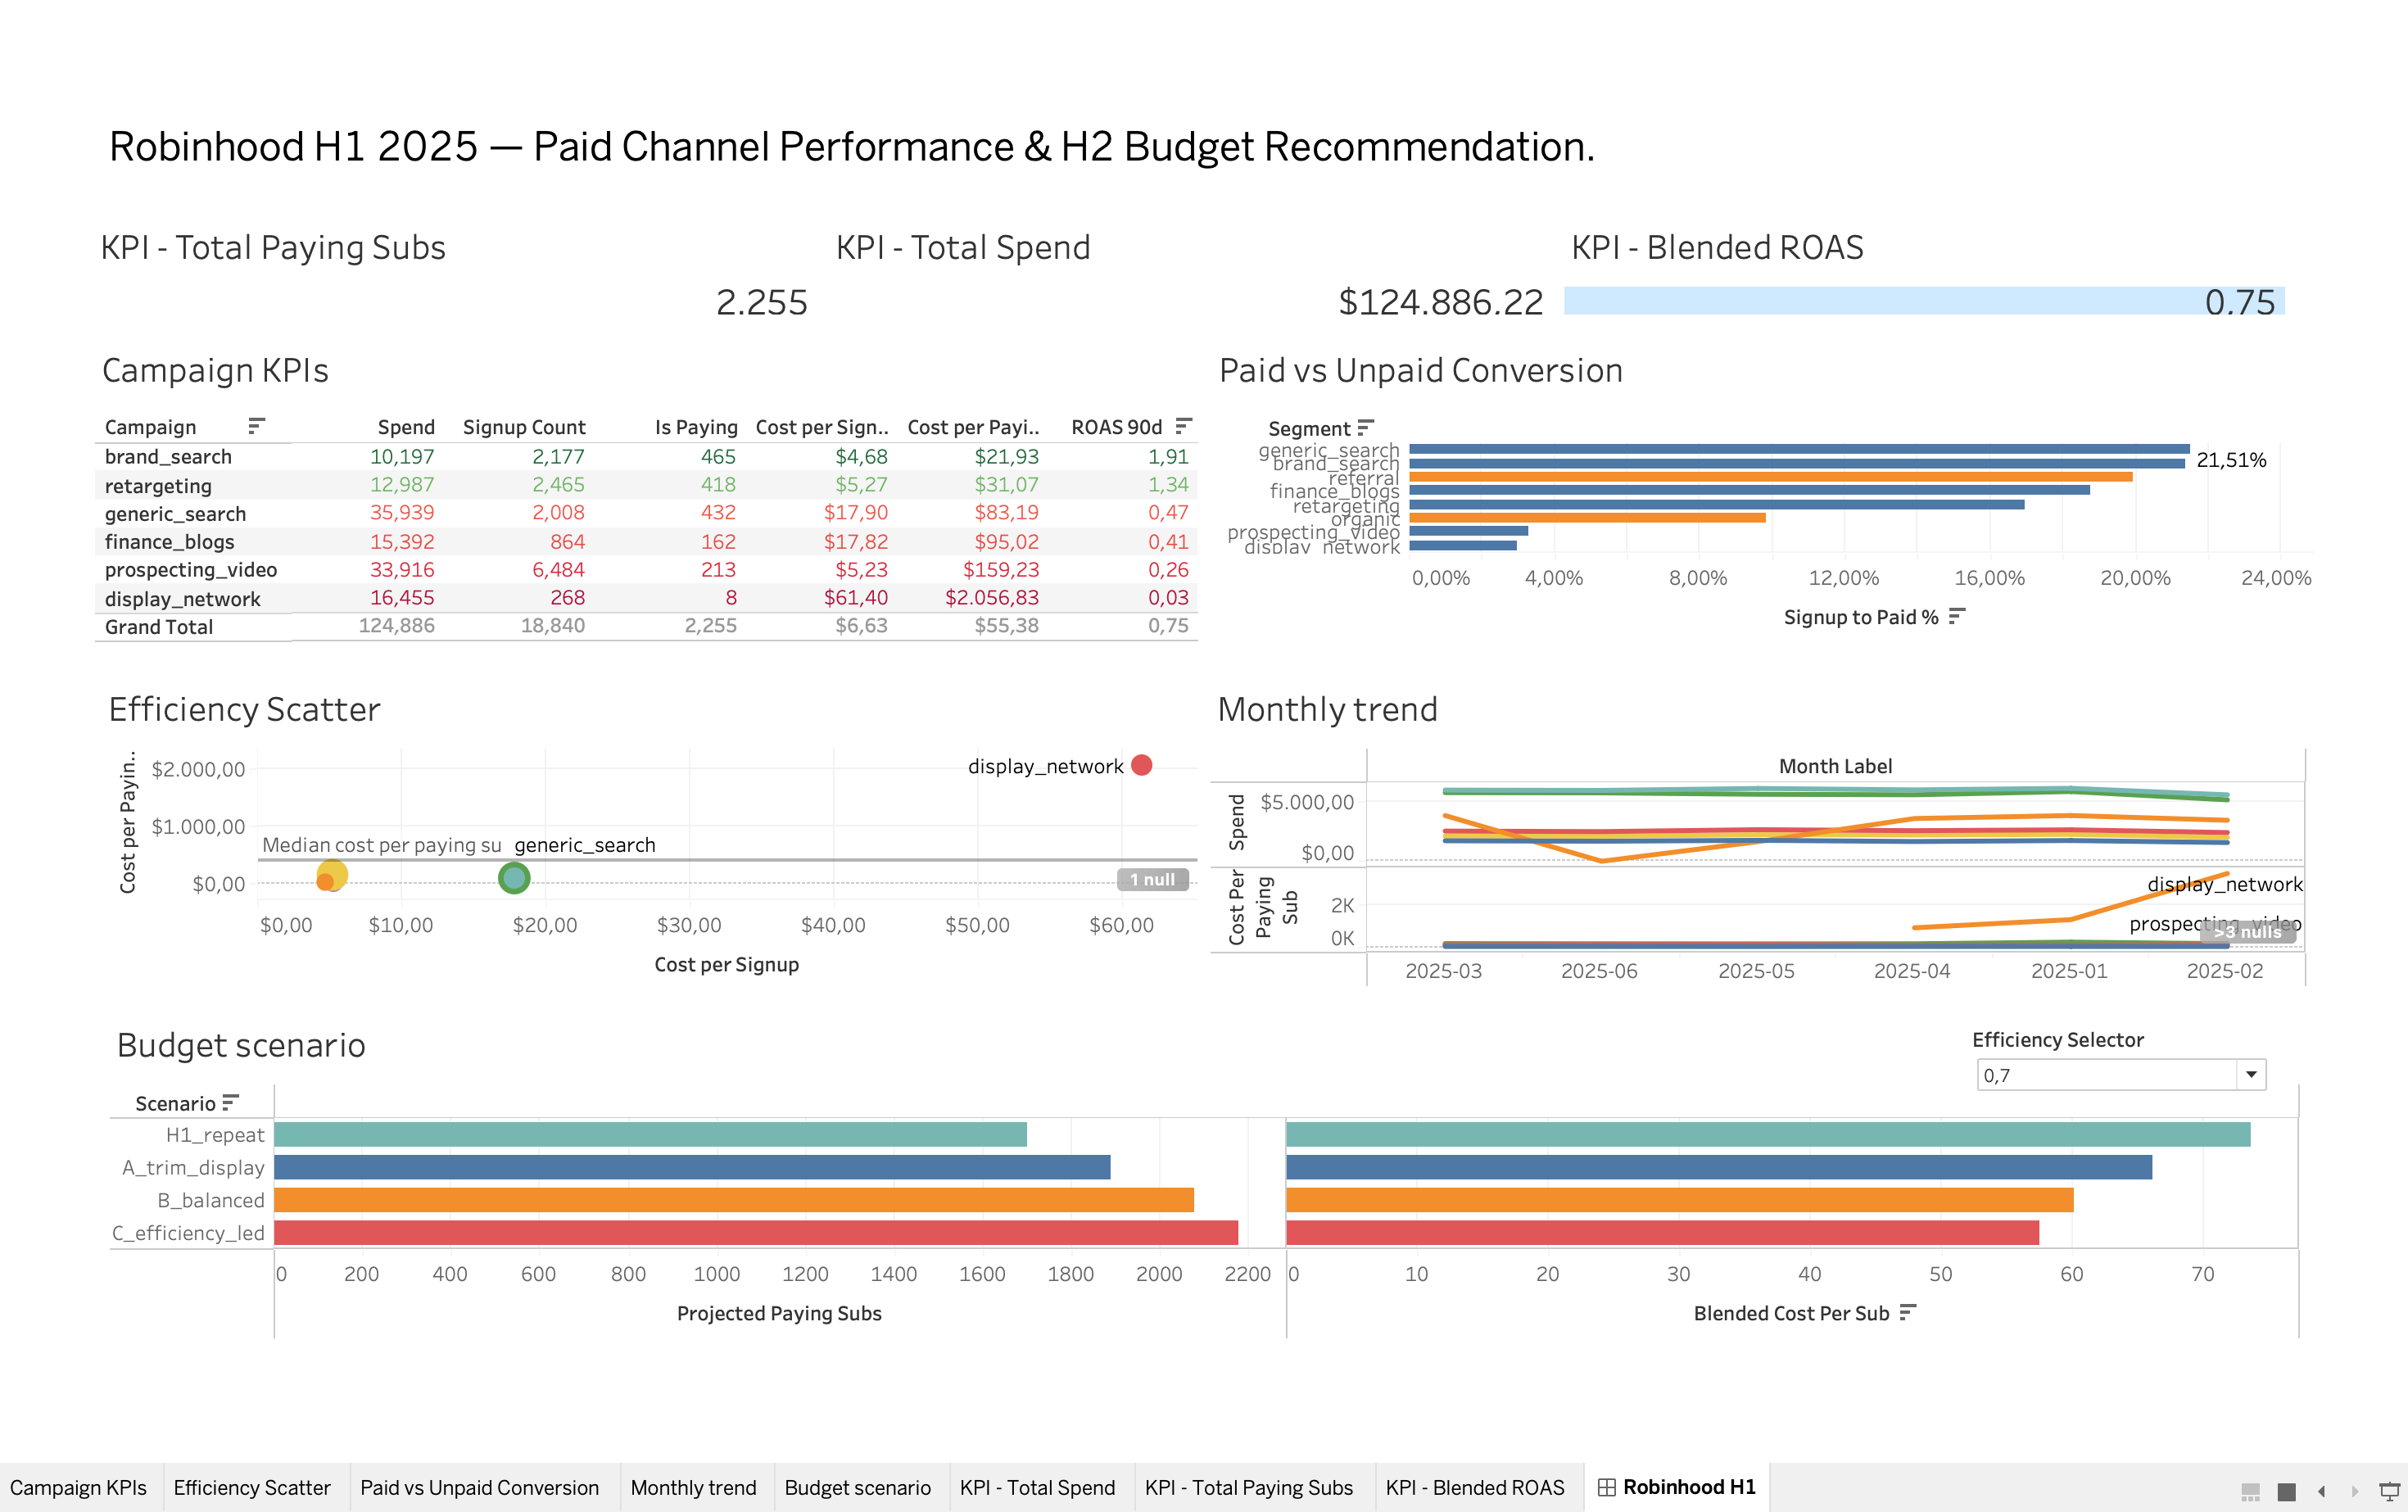

What the dashboard file says about the page in this screenshot:
{"tool":"tableau","page":{"name":"Robinhood H1","canvas":[1366,768],"ordinal":0},"visuals":[{"type":"title","box":[8,8,1350,39]},{"type":"worksheet","title":"KPI - Total Paying Subs","mark":"Automatic","box":[1,66,449,68]},{"type":"worksheet","title":"KPI - Total Spend","mark":"Automatic","box":[450,66,449,68]},{"type":"worksheet","title":"KPI - Blended ROAS","mark":"Automatic","box":[899,66,448,68]},{"type":"worksheet","title":"Campaign KPIs","mark":"Automatic","rows":["campaign"],"box":[2,141,682,193]},{"type":"worksheet","title":"Paid vs Unpaid Conversion","mark":"Automatic","rows":["segment"],"cols":["Calculation_0279049814638593"],"box":[684,141,681,193]},{"type":"worksheet","title":"Efficiency Scatter","mark":"Circle","rows":["Calculation_0279049815203844"],"cols":["Calculation_0279049815040003"],"box":[6,348,677,198]},{"type":"worksheet","title":"Monthly trend","mark":"Line","rows":["spend","cost_per_paying_sub"],"cols":["month_label"],"box":[683,348,677,198]},{"type":"parameter","param":"[Parameters].[Parameter 0279049848582156]","box":[1152,564,183,42]}]}

Visuals, with their boxes on the page's 1366x768 design canvas (x1, y1, x2, y2). These are canvas units, not pixel positions in the 2408x1512 screenshot, which may show the page scaled, cropped or inside an application window:
title: 8 8 1358 47
"KPI - Total Paying Subs" worksheet: 1 66 450 134
"KPI - Total Spend" worksheet: 450 66 899 134
"KPI - Blended ROAS" worksheet: 899 66 1347 134
"Campaign KPIs" worksheet: 2 141 684 334
"Paid vs Unpaid Conversion" worksheet: 684 141 1365 334
"Efficiency Scatter" worksheet (Circle marks): 6 348 683 546
"Monthly trend" worksheet (Line marks): 683 348 1360 546
parameter: 1152 564 1335 606
